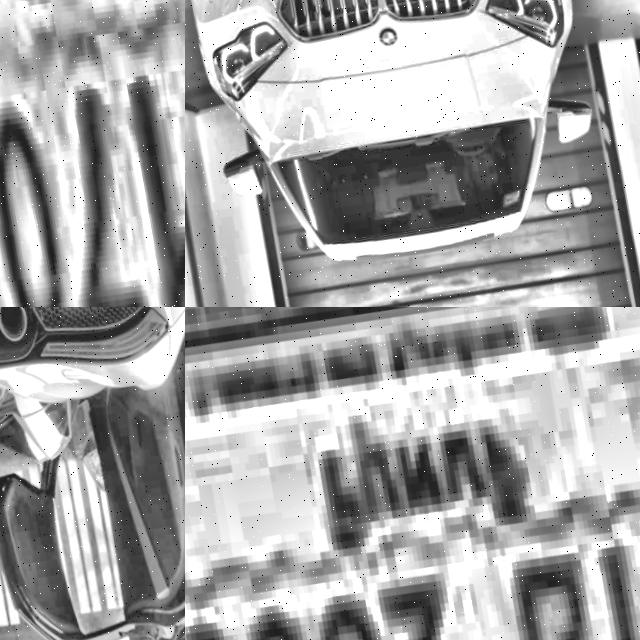license-plate: (185, 307, 640, 640), (0, 0, 185, 307)
